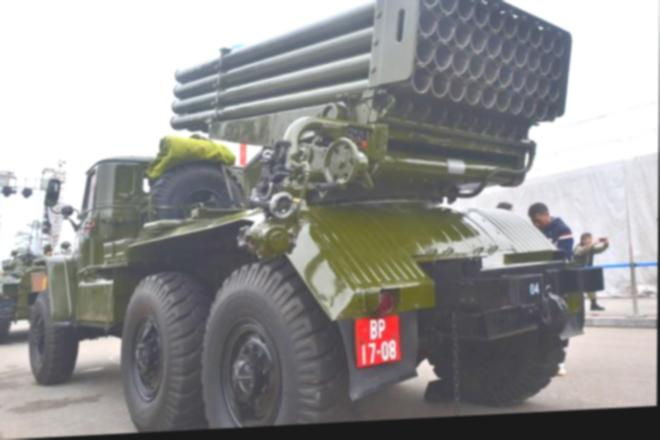License_Plate: (354, 312, 404, 369)
